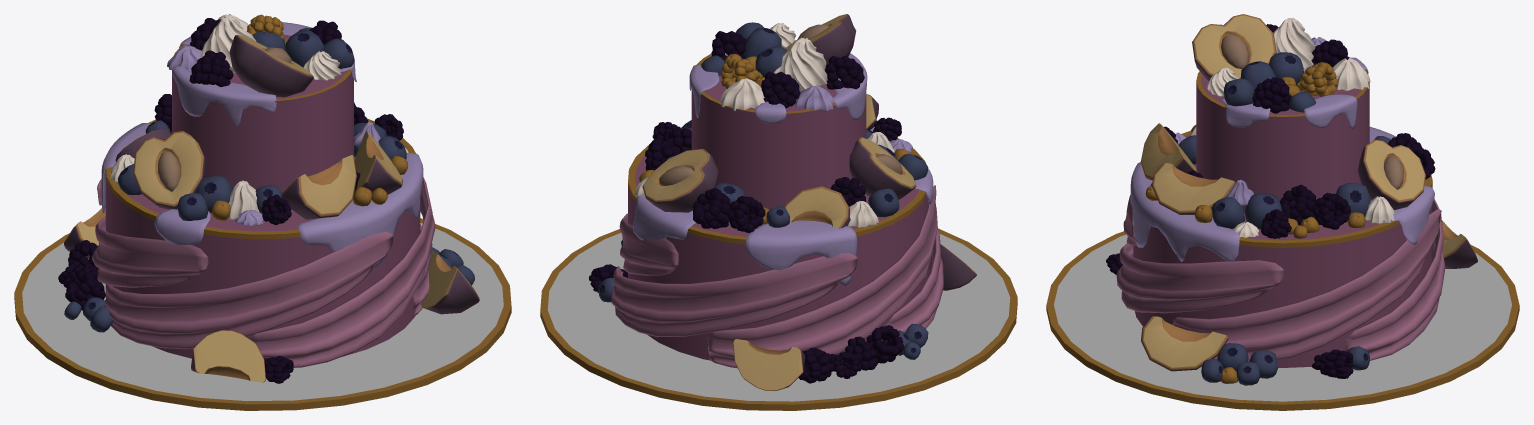
File: fruit_cake.fbx
3 renders of one model, left to right at view 1: azimuth 30°, elevation 25°; view 2: azimuth 150°, elevation 25°; view 3: azimuth 270°, elevation 25°, orthographic. The views are drawn at different scales.
Parts seen in each view (by area): view 1: pCylinder3, polySurface22, pCylinder2, polySurface1, polySurface23, polySurface24, polySurface21, pSphere18, pSphere7, polySurface25, pSphere9, pSphere26 (+25 smaller); view 2: pCylinder3, pCylinder2, polySurface20, polySurface1, polySurface21, polySurface24, pSphere6, pSphere25, pSphere18, polySurface25, polySurface2, polySurface22 (+27 smaller); view 3: pCylinder3, pCylinder2, polySurface1, polySurface2, polySurface23, polySurface24, polySurface20, pSphere7, pSphere6, pSphere10, pSphere8, polySurface25 (+24 smaller).
Part boxes in pixels (box(x1,y1,x2,y2)): pCylinder3: box(14, 218, 511, 410); polySurface22: box(104, 232, 393, 349); pCylinder2: box(172, 30, 353, 192); polySurface1: box(105, 118, 420, 358); polySurface23: box(250, 177, 435, 367); polySurface24: box(101, 123, 423, 268); polySurface21: box(92, 216, 208, 287); pSphere18: box(133, 131, 205, 209); pSphere7: box(229, 35, 313, 97); polySurface25: box(172, 22, 356, 126); pSphere9: box(281, 155, 356, 219); pSphere26: box(191, 330, 265, 382); pCylinder3: box(540, 228, 1017, 410); pCylinder2: box(691, 53, 866, 210); polySurface20: box(611, 253, 857, 337); polySurface1: box(628, 138, 929, 360); polySurface21: box(707, 185, 937, 368); polySurface24: box(633, 127, 933, 286); pSphere6: box(642, 148, 718, 212); pSphere25: box(733, 339, 805, 391); pSphere18: box(849, 137, 916, 199); polySurface25: box(689, 51, 867, 124); polySurface2: box(619, 213, 678, 275); polySurface22: box(885, 228, 943, 341); pCylinder3: box(1046, 231, 1519, 410); pCylinder2: box(1196, 57, 1369, 212); polySurface1: box(1133, 130, 1432, 367); polySurface2: box(1172, 209, 1441, 362); polySurface23: box(1116, 243, 1283, 313); polySurface24: box(1130, 126, 1434, 261); polySurface20: box(1344, 199, 1445, 360); pSphere7: box(1192, 14, 1276, 81); pSphere6: box(1358, 139, 1425, 210); pSphere10: box(1141, 316, 1228, 371); pSphere8: box(1152, 163, 1235, 214); polySurface25: box(1222, 57, 1368, 128).
Size of the model in its own units: 6.03 by 6.03 by 3.91.
